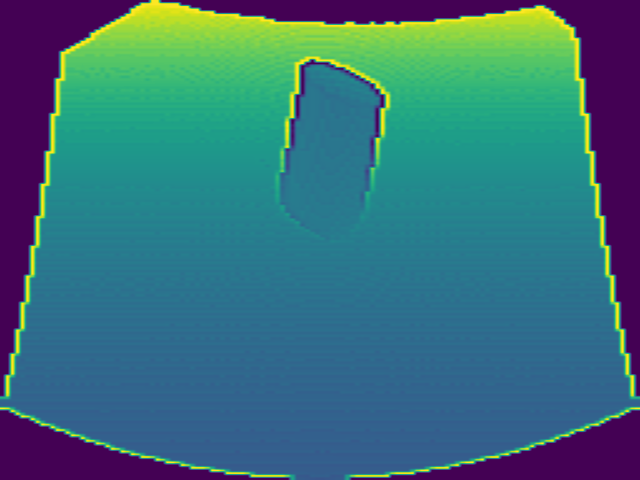cylinder: (277, 56, 390, 237)
